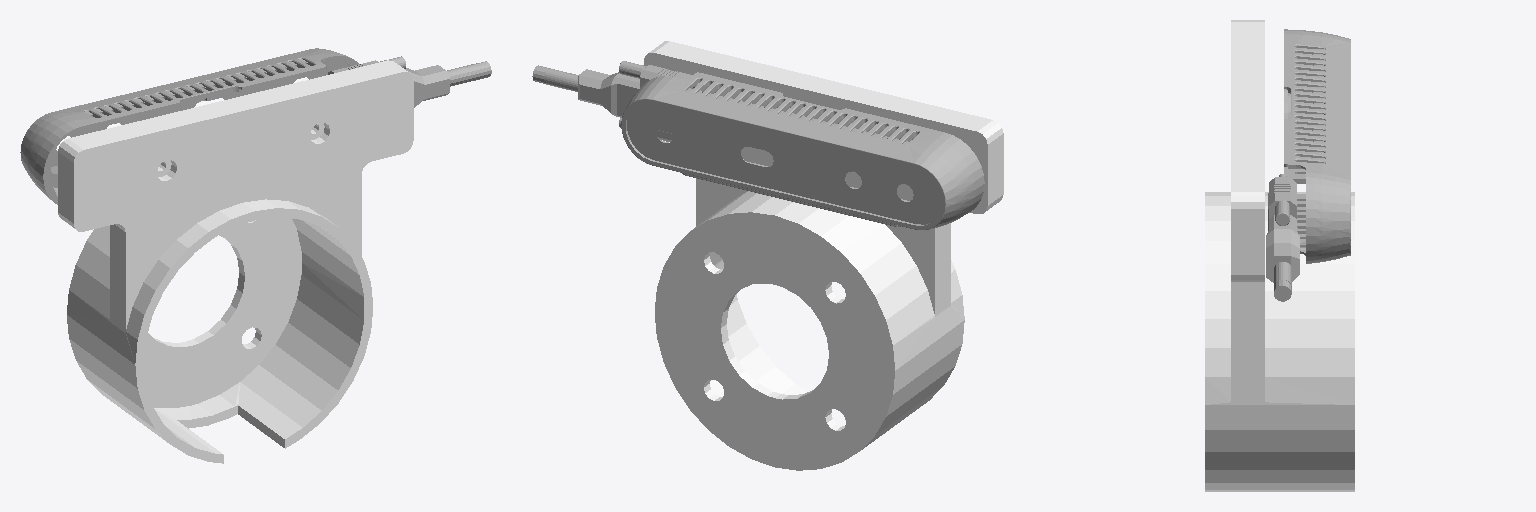
robot.urdf — ur3:
<?xml version="1.0" ?>
<!-- =================================================================================== -->
<!-- |    This document was autogenerated by xacro from ur3_robot.urdf.xacro           | -->
<!-- |    EDITING THIS FILE BY HAND IS NOT RECOMMENDED                                 | -->
<!-- =================================================================================== -->
<robot name="ur3" xmlns:xacro="http://wiki.ros.org/xacro">
  <gazebo>
    <plugin filename="libgazebo_ros_control.so" name="ros_control">
      <!--robotNamespace>/</robotNamespace-->
      <!--robotSimType>gazebo_ros_control/DefaultRobotHWSim</robotSimType-->
    </plugin>
    <!--
    <plugin name="gazebo_ros_power_monitor_controller" filename="libgazebo_ros_power_monitor.so">
      <alwaysOn>true</alwaysOn>
      <updateRate>1.0</updateRate>
      <timeout>5</timeout>
      <powerStateTopic>power_state</powerStateTopic>
      <powerStateRate>10.0</powerStateRate>
      <fullChargeCapacity>87.78</fullChargeCapacity>     
      <dischargeRate>-474</dischargeRate>
      <chargeRate>525</chargeRate>
      <dischargeVoltage>15.52</dischargeVoltage>
      <chargeVoltage>16.41</chargeVoltage>
    </plugin>
-->
  </gazebo>
  <!--
  Author: [author]
-->
  <!-- measured from model -->
  <link name="base_link">
    <visual>
      <geometry>
        <mesh filename="package://ur_description/meshes/ur3/visual/base.dae"/>
      </geometry>
      <material name="LightGrey">
        <color rgba="0.7 0.7 0.7 1.0"/>
      </material>
    </visual>
    <collision>
      <geometry>
        <mesh filename="package://ur_description/meshes/ur3/collision/base.stl"/>
      </geometry>
    </collision>
    <inertial>
      <mass value="2.0"/>
      <origin rpy="0 0 0" xyz="0.0 0.0 0.0"/>
      <inertia ixx="0.0030531654454" ixy="0.0" ixz="0.0" iyy="0.0030531654454" iyz="0.0" izz="0.005625"/>
    </inertial>
  </link>
  <joint name="shoulder_pan_joint" type="revolute">
    <parent link="base_link"/>
    <child link="shoulder_link"/>
    <origin rpy="0.0 0.0 0.0" xyz="0.0 0.0 0.1519"/>
    <axis xyz="0 0 1"/>
    <limit effort="330.0" lower="-6.28318530718" upper="6.28318530718" velocity="2.16"/>
    <dynamics damping="0.0" friction="0.0"/>
  </joint>
  <link name="shoulder_link">
    <visual>
      <geometry>
        <mesh filename="package://ur_description/meshes/ur3/visual/shoulder.dae"/>
      </geometry>
      <material name="LightGrey">
        <color rgba="0.7 0.7 0.7 1.0"/>
      </material>
    </visual>
    <collision>
      <geometry>
        <mesh filename="package://ur_description/meshes/ur3/collision/shoulder.stl"/>
      </geometry>
    </collision>
    <inertial>
      <mass value="2.0"/>
      <origin rpy="0 0 0" xyz="0.0 0.0 0.0"/>
      <inertia ixx="0.0080931634294" ixy="0.0" ixz="0.0" iyy="0.0080931634294" iyz="0.0" izz="0.005625"/>
    </inertial>
  </link>
  <joint name="shoulder_lift_joint" type="revolute">
    <parent link="shoulder_link"/>
    <child link="upper_arm_link"/>
    <origin rpy="0.0 1.57079632679 0.0" xyz="0.0 0.1198 0.0"/>
    <axis xyz="0 1 0"/>
    <limit effort="330.0" lower="-6.28318530718" upper="6.28318530718" velocity="2.16"/>
    <dynamics damping="0.0" friction="0.0"/>
  </joint>
  <link name="upper_arm_link">
    <visual>
      <geometry>
        <mesh filename="package://ur_description/meshes/ur3/visual/upperarm.dae"/>
      </geometry>
      <material name="LightGrey">
        <color rgba="0.7 0.7 0.7 1.0"/>
      </material>
    </visual>
    <collision>
      <geometry>
        <mesh filename="package://ur_description/meshes/ur3/collision/upperarm.stl"/>
      </geometry>
    </collision>
    <inertial>
      <mass value="3.42"/>
      <origin rpy="0 0 0" xyz="0.0 0.0 0.121825"/>
      <inertia ixx="0.0217284832211" ixy="0.0" ixz="0.0" iyy="0.0217284832211" iyz="0.0" izz="0.00961875"/>
    </inertial>
  </link>
  <joint name="elbow_joint" type="revolute">
    <parent link="upper_arm_link"/>
    <child link="forearm_link"/>
    <origin rpy="0.0 0.0 0.0" xyz="0.0 -0.0925 0.24365"/>
    <axis xyz="0 1 0"/>
    <limit effort="150.0" lower="-3.14159265359" upper="3.14159265359" velocity="3.15"/>
    <dynamics damping="0.0" friction="0.0"/>
  </joint>
  <link name="forearm_link">
    <visual>
      <geometry>
        <mesh filename="package://ur_description/meshes/ur3/visual/forearm.dae"/>
      </geometry>
      <material name="LightGrey">
        <color rgba="0.7 0.7 0.7 1.0"/>
      </material>
    </visual>
    <collision>
      <geometry>
        <mesh filename="package://ur_description/meshes/ur3/collision/forearm.stl"/>
      </geometry>
    </collision>
    <inertial>
      <mass value="1.26"/>
      <origin rpy="0 0 0" xyz="0.0 0.0 0.106625"/>
      <inertia ixx="0.00654680644378" ixy="0.0" ixz="0.0" iyy="0.00654680644378" iyz="0.0" izz="0.00354375"/>
    </inertial>
  </link>
  <joint name="wrist_1_joint" type="revolute">
    <parent link="forearm_link"/>
    <child link="wrist_1_link"/>
    <origin rpy="0.0 1.57079632679 0.0" xyz="0.0 0.0 0.21325"/>
    <axis xyz="0 1 0"/>
    <limit effort="54.0" lower="-6.28318530718" upper="6.28318530718" velocity="3.2"/>
    <dynamics damping="0.0" friction="0.0"/>
  </joint>
  <link name="wrist_1_link">
    <visual>
      <geometry>
        <mesh filename="package://ur_description/meshes/ur3/visual/wrist1.dae"/>
      </geometry>
      <material name="LightGrey">
        <color rgba="0.7 0.7 0.7 1.0"/>
      </material>
    </visual>
    <collision>
      <geometry>
        <mesh filename="package://ur_description/meshes/ur3/collision/wrist1.stl"/>
      </geometry>
    </collision>
    <inertial>
      <mass value="0.8"/>
      <origin rpy="0 0 0" xyz="0.0 0.08505 0.0"/>
      <inertia ixx="0.002084999166" ixy="0.0" ixz="0.0" iyy="0.002084999166" iyz="0.0" izz="0.00225"/>
    </inertial>
  </link>
  <joint name="wrist_2_joint" type="revolute">
    <parent link="wrist_1_link"/>
    <child link="wrist_2_link"/>
    <origin rpy="0.0 0.0 0.0" xyz="0.0 0.08505 0.0"/>
    <axis xyz="0 0 1"/>
    <limit effort="54.0" lower="-6.28318530718" upper="6.28318530718" velocity="3.2"/>
    <dynamics damping="0.0" friction="0.0"/>
  </joint>
  <link name="wrist_2_link">
    <visual>
      <geometry>
        <mesh filename="package://ur_description/meshes/ur3/visual/wrist2.dae"/>
      </geometry>
      <material name="LightGrey">
        <color rgba="0.7 0.7 0.7 1.0"/>
      </material>
    </visual>
    <collision>
      <geometry>
        <mesh filename="package://ur_description/meshes/ur3/collision/wrist2.stl"/>
      </geometry>
    </collision>
    <inertial>
      <mass value="0.8"/>
      <origin rpy="0 0 0" xyz="0.0 0.0 0.08535"/>
      <inertia ixx="0.002084999166" ixy="0.0" ixz="0.0" iyy="0.002084999166" iyz="0.0" izz="0.00225"/>
    </inertial>
  </link>
  <joint name="wrist_3_joint" type="revolute">
    <parent link="wrist_2_link"/>
    <child link="wrist_3_link"/>
    <origin rpy="0.0 0.0 0.0" xyz="0.0 0.0 0.08535"/>
    <axis xyz="0 1 0"/>
    <limit effort="54.0" lower="-6.28318530718" upper="6.28318530718" velocity="3.2"/>
    <dynamics damping="0.0" friction="0.0"/>
  </joint>
  <link name="wrist_3_link">
    <visual>
      <geometry>
        <mesh filename="package://ur_description/meshes/ur3/visual/wrist3.dae"/>
      </geometry>
      <material name="LightGrey">
        <color rgba="0.7 0.7 0.7 1.0"/>
      </material>
    </visual>
    <collision>
      <geometry>
        <mesh filename="package://ur_description/meshes/ur3/collision/wrist3.stl"/>
      </geometry>
    </collision>
    <inertial>
      <mass value="0.35"/>
      <origin rpy="1.57079632679 0 0" xyz="0.0 0.0619 0.0"/>
      <inertia ixx="0.00013626661216" ixy="0.0" ixz="0.0" iyy="0.00013626661216" iyz="0.0" izz="0.0001792"/>
    </inertial>
  </link>
  <joint name="ee_fixed_joint" type="fixed">
    <parent link="wrist_3_link"/>
    <child link="ee_link"/>
    <origin rpy="0.0 0.0 1.57079632679" xyz="0.0 0.0819 0.0"/>
  </joint>
  <link name="ee_link">
    <collision>
      <geometry>
        <box size="0.01 0.01 0.01"/>
      </geometry>
      <origin rpy="0 0 0" xyz="-0.01 0 0"/>
    </collision>
  </link>
  <transmission name="shoulder_pan_trans">
    <type>transmission_interface/SimpleTransmission</type>
    <joint name="shoulder_pan_joint">
      <hardwareInterface>hardware_interface/PositionJointInterface</hardwareInterface>
    </joint>
    <actuator name="shoulder_pan_motor">
      <mechanicalReduction>1</mechanicalReduction>
    </actuator>
  </transmission>
  <transmission name="shoulder_lift_trans">
    <type>transmission_interface/SimpleTransmission</type>
    <joint name="shoulder_lift_joint">
      <hardwareInterface>hardware_interface/PositionJointInterface</hardwareInterface>
    </joint>
    <actuator name="shoulder_lift_motor">
      <mechanicalReduction>1</mechanicalReduction>
    </actuator>
  </transmission>
  <transmission name="elbow_trans">
    <type>transmission_interface/SimpleTransmission</type>
    <joint name="elbow_joint">
      <hardwareInterface>hardware_interface/PositionJointInterface</hardwareInterface>
    </joint>
    <actuator name="elbow_motor">
      <mechanicalReduction>1</mechanicalReduction>
    </actuator>
  </transmission>
  <transmission name="wrist_1_trans">
    <type>transmission_interface/SimpleTransmission</type>
    <joint name="wrist_1_joint">
      <hardwareInterface>hardware_interface/PositionJointInterface</hardwareInterface>
    </joint>
    <actuator name="wrist_1_motor">
      <mechanicalReduction>1</mechanicalReduction>
    </actuator>
  </transmission>
  <transmission name="wrist_2_trans">
    <type>transmission_interface/SimpleTransmission</type>
    <joint name="wrist_2_joint">
      <hardwareInterface>hardware_interface/PositionJointInterface</hardwareInterface>
    </joint>
    <actuator name="wrist_2_motor">
      <mechanicalReduction>1</mechanicalReduction>
    </actuator>
  </transmission>
  <transmission name="wrist_3_trans">
    <type>transmission_interface/SimpleTransmission</type>
    <joint name="wrist_3_joint">
      <hardwareInterface>hardware_interface/PositionJointInterface</hardwareInterface>
    </joint>
    <actuator name="wrist_3_motor">
      <mechanicalReduction>1</mechanicalReduction>
    </actuator>
  </transmission>
  <gazebo reference="shoulder_link">
    <selfCollide>true</selfCollide>
  </gazebo>
  <gazebo reference="upper_arm_link">
    <selfCollide>true</selfCollide>
  </gazebo>
  <gazebo reference="forearm_link">
    <selfCollide>true</selfCollide>
  </gazebo>
  <gazebo reference="wrist_1_link">
    <selfCollide>true</selfCollide>
  </gazebo>
  <gazebo reference="wrist_3_link">
    <selfCollide>true</selfCollide>
  </gazebo>
  <gazebo reference="wrist_2_link">
    <selfCollide>true</selfCollide>
  </gazebo>
  <gazebo reference="ee_link">
    <selfCollide>true</selfCollide>
  </gazebo>
  <!-- ROS base_link to UR 'Base' Coordinates transform -->
  <link name="base"/>
  <joint name="base_link-base_fixed_joint" type="fixed">
    <!-- NOTE: this rotation is only needed as long as base_link itself is
                 not corrected wrt the real robot (ie: rotated over 180
                 degrees)
      -->
    <origin rpy="0 0 -3.14159265359" xyz="0 0 0"/>
    <parent link="base_link"/>
    <child link="base"/>
  </joint>
  <!-- Frame coincident with all-zeros TCP on UR controller -->
  <link name="tool0"/>
  <joint name="wrist_3_link-tool0_fixed_joint" type="fixed">
    <origin rpy="-1.57079632679 0 0" xyz="0 0.0819 0"/>
    <parent link="wrist_3_link"/>
    <child link="tool0"/>
  </joint>
  <!-- hand_camera -->
  <link name="camera_base_link">
    <inertial>
      <origin rpy="0 0 0" xyz="0.00104677176561555 -0.0218960907674857 -0.0156368419811985"/>
      <mass value="0.0484545630468819"/>
      <inertia ixx="4.19793069441571E-05" ixy="1.29981320201142E-07" ixz="6.72560291455767E-08" iyy="3.68292321506223E-05" iyz="-6.88066472385022E-06" izz="6.86687322844385E-05"/>
    </inertial>
    <visual>
      <origin rpy="0 0 3.14159265359" xyz="0 0 0"/>
      <geometry>
        <mesh filename="package://ur_description/meshes/ur3/collision/camera_base_link.STL"/>
      </geometry>
      <material name="">
        <color rgba="1 1 1 1"/>
      </material>
    </visual>
    <collision>
      <origin rpy="0 0 0" xyz="0 0 0"/>
      <geometry>
        <mesh filename="package://ur_description/meshes/ur3/collision/camera_base_link.STL"/>
      </geometry>
    </collision>
  </link>
  <joint name="camera_base_joint" type="fixed">
    <origin rpy="0 0 0" xyz="0.0 0.0 0.0"/>
    <parent link="tool0"/>
    <child link="camera_base_link"/>
    <axis xyz="0 0 0"/>
    <safety_controller k_velocity="0"/>
  </joint>
  <link name="hand_camera_link">
    <inertial>
      <origin rpy="0 0 0" xyz="-0.013967679598446 -0.000346404022045277 -0.00855687282390438"/>
      <mass value="0.0105220157522583"/>
      <inertia ixx="6.56726961439111E-07" ixy="3.36774088493176E-09" ixz="1.10137141282441E-07" iyy="7.04478372578252E-06" iyz="3.52475062132005E-09" izz="7.48491927800553E-06"/>
    </inertial>
    <visual>
      <origin rpy="0 0 0" xyz="0 0 0"/>
      <geometry>
        <mesh filename="package://ur_description/meshes/ur3/collision/hand_camera_link.STL"/>
      </geometry>
      <material name="">
        <color rgba="0.752941176470588 0.752941176470588 0.752941176470588 1"/>
      </material>
    </visual>
    <collision>
      <origin rpy="0 0 0" xyz="0 0 0"/>
      <geometry>
        <mesh filename="package://ur_description/meshes/ur3/collision/hand_camera_link.STL"/>
      </geometry>
    </collision>
  </link>
  <joint name="hand_camera_joint" type="fixed">
    <origin rpy="0 0 0" xyz="0.00111637044362657 0.048499999996743 0.00205000007705258"/>
    <parent link="camera_base_link"/>
    <child link="hand_camera_link"/>
    <axis xyz="0 0 0"/>
    <safety_controller k_velocity="0"/>
  </joint>
  <link name="world"/>
  <joint name="world_joint" type="fixed">
    <parent link="world"/>
    <child link="base_link"/>
    <origin rpy="0.0 0.0 0.0" xyz="0.0 0.0 0.0"/>
  </joint>
</robot>

--- Facts derived from the render (not from the file) ---
3 views of the same robot in one strip: view 1: azimuth 30°, elevation 25°; view 2: azimuth 150°, elevation 25°; view 3: azimuth 270°, elevation 25° (orthographic).
Robot: ur3 — 13 links, 12 joints (6 revolute, 6 fixed); root link world; default pose: all joints at 0.
Visible links, largest first — view 1: camera_base_link, hand_camera_link; view 2: camera_base_link, hand_camera_link; view 3: camera_base_link, hand_camera_link.
Boxes of the visible links, x1,y1,x2,y2 form: camera_base_link: (58, 60, 413, 463); hand_camera_link: (20, 48, 491, 204); camera_base_link: (644, 41, 1003, 470); hand_camera_link: (532, 61, 984, 229); camera_base_link: (1205, 20, 1354, 491); hand_camera_link: (1266, 29, 1350, 301).
Size in the robot's own frame: 0.1304 by 0.035 by 0.0957 metres.
Meshes: 9 distinct files referenced, 2 mesh visuals loaded (2 binary STL); not drawn: 7 (reference not matched to a file when rendering).